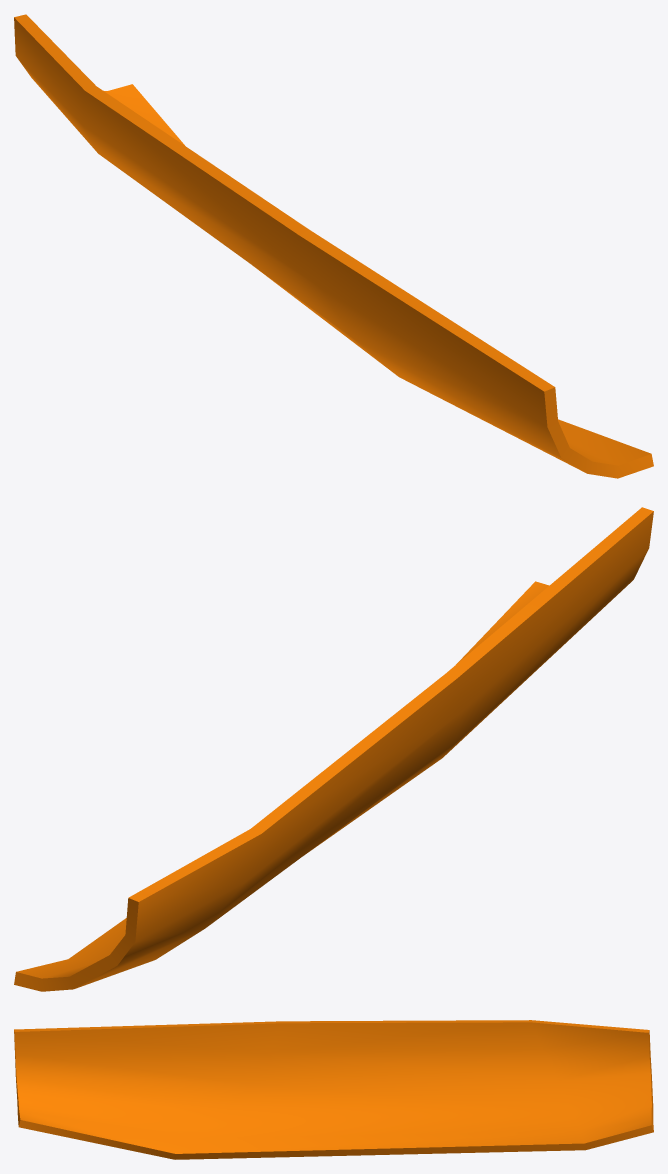
Rendered from geardoor_2.FBX.
3 renders of one model, top to bottom at view 1: azimuth 30°, elevation 25°; view 2: azimuth 150°, elevation 25°; view 3: azimuth 270°, elevation 25°, orthographic. The views are drawn at different scales.
Parts seen in each view (by area): view 1: Box001; view 2: Box001; view 3: Box001.
Boxes of the visible parts, x1,y1,x2,y2 form: Box001: (14,14,653,478); Box001: (14,507,653,991); Box001: (14,1020,653,1159).
Bounding box in the file's own units: 27.12 × 26.58 × 158.
